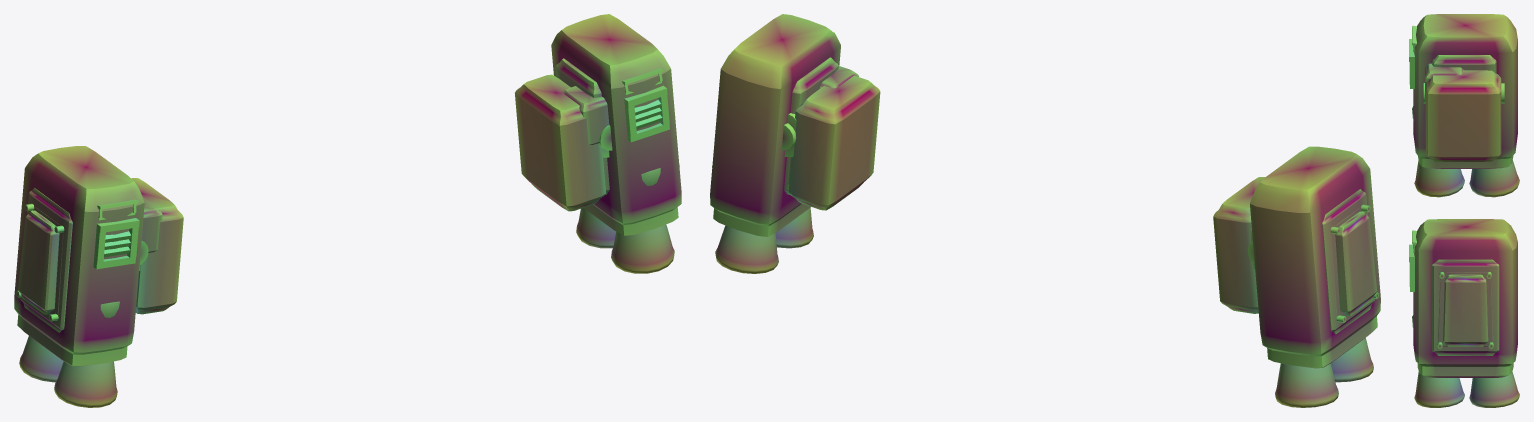
Rendered from llm_gen_leg_thrusters_112_52c43e.glb.
The picture shows the model from 3 angles, left to right: view 1: azimuth 30°, elevation 25°; view 2: azimuth 150°, elevation 25°; view 3: azimuth 270°, elevation 25°; orthographic projection. The views are drawn at different scales.
Visible parts, largest first — view 1: hover_cowling_armor_1_cobalt_anodized_l, hover_cowling_armor_1_cobalt_anodized_r, adapter_calf_clamp_r, hover_flank_panel_5_titanium_silver_l, adapter_calf_clamp_l, hover_bell_fwd_7_vernier_bell_vernier_l, hover_bell_fwd_7_vernier_bell_vernier_r, adapter_sub_hover_flank_dark_4_adapter_dark_l, adapter_sub_hover_manifold_dark_6_adapter_dark_l, adapter_sub_hover_intake_grille_2_dark_r, adapter_sub_hover_intake_grille_2_dark_l, hover_bell_aft_8_vernier_bell_vernier_l (+5 smaller); view 2: hover_cowling_armor_1_cobalt_anodized_l, hover_cowling_armor_1_cobalt_anodized_r, adapter_calf_clamp_r, adapter_calf_clamp_l, hover_flank_panel_5_titanium_silver_l, hover_bell_aft_8_vernier_bell_vernier_l, hover_bell_aft_8_vernier_bell_vernier_r, adapter_sub_hover_flank_dark_4_adapter_dark_l, adapter_sub_hover_manifold_dark_6_adapter_dark_l, hover_bell_fwd_7_vernier_bell_vernier_l, hover_core_mount_0_adapter_dark_r, adapter_sub_hover_manifold_dark_6_adapter_dark_r (+1 smaller); view 3: hover_cowling_armor_1_cobalt_anodized_r, hover_cowling_armor_1_cobalt_anodized_l, adapter_calf_clamp_l, hover_flank_panel_5_titanium_silver_r, adapter_sub_hover_flank_dark_4_adapter_dark_r, hover_bell_aft_8_vernier_bell_vernier_r, hover_bell_fwd_7_vernier_bell_vernier_r, hover_bell_aft_8_vernier_bell_vernier_l, hover_bell_fwd_7_vernier_bell_vernier_l, adapter_sub_hover_manifold_dark_6_adapter_dark_r, hover_core_mount_0_adapter_dark_l, adapter_sub_hover_manifold_dark_6_adapter_dark_l (+4 smaller).
Boxes of the visible parts, box(x1,y1,x2,y2) form: hover_cowling_armor_1_cobalt_anodized_l: box(14, 146, 144, 354); hover_cowling_armor_1_cobalt_anodized_r: box(551, 14, 681, 225); adapter_calf_clamp_r: box(515, 74, 609, 211); hover_flank_panel_5_titanium_silver_l: box(16, 203, 64, 321); adapter_calf_clamp_l: box(131, 178, 183, 314); hover_bell_fwd_7_vernier_bell_vernier_l: box(54, 361, 117, 407); hover_bell_fwd_7_vernier_bell_vernier_r: box(611, 224, 674, 273); adapter_sub_hover_flank_dark_4_adapter_dark_l: box(20, 188, 72, 332); adapter_sub_hover_manifold_dark_6_adapter_dark_l: box(17, 314, 127, 366); adapter_sub_hover_intake_grille_2_dark_r: box(624, 85, 669, 142); adapter_sub_hover_intake_grille_2_dark_l: box(93, 218, 139, 269); hover_bell_aft_8_vernier_bell_vernier_l: box(19, 336, 63, 382); hover_cowling_armor_1_cobalt_anodized_l: box(1250, 146, 1380, 356); hover_cowling_armor_1_cobalt_anodized_r: box(710, 14, 840, 226); adapter_calf_clamp_r: box(784, 75, 880, 210); adapter_calf_clamp_l: box(1213, 177, 1265, 313); hover_flank_panel_5_titanium_silver_l: box(1330, 204, 1378, 322); hover_bell_aft_8_vernier_bell_vernier_l: box(1275, 363, 1338, 407); hover_bell_aft_8_vernier_bell_vernier_r: box(715, 225, 778, 273); adapter_sub_hover_flank_dark_4_adapter_dark_l: box(1322, 189, 1374, 334); adapter_sub_hover_manifold_dark_6_adapter_dark_l: box(1267, 316, 1377, 368); hover_bell_fwd_7_vernier_bell_vernier_l: box(1331, 338, 1373, 382); hover_core_mount_0_adapter_dark_r: box(784, 57, 838, 194); adapter_sub_hover_manifold_dark_6_adapter_dark_r: box(713, 204, 810, 236); hover_cowling_armor_1_cobalt_anodized_r: box(1413, 219, 1517, 366); hover_cowling_armor_1_cobalt_anodized_l: box(1413, 14, 1517, 159); adapter_calf_clamp_l: box(1425, 70, 1501, 161); hover_flank_panel_5_titanium_silver_r: box(1437, 272, 1493, 348); adapter_sub_hover_flank_dark_4_adapter_dark_r: box(1432, 259, 1499, 355); hover_bell_aft_8_vernier_bell_vernier_r: box(1469, 372, 1519, 407); hover_bell_fwd_7_vernier_bell_vernier_r: box(1414, 372, 1464, 407); hover_bell_aft_8_vernier_bell_vernier_l: box(1469, 160, 1519, 197); hover_bell_fwd_7_vernier_bell_vernier_l: box(1414, 160, 1464, 197); adapter_sub_hover_manifold_dark_6_adapter_dark_r: box(1417, 363, 1513, 377); hover_core_mount_0_adapter_dark_l: box(1432, 55, 1496, 73); adapter_sub_hover_manifold_dark_6_adapter_dark_l: box(1417, 155, 1513, 168).
Size of the model in its own units: 84.06 by 27.38 by 16.15.
